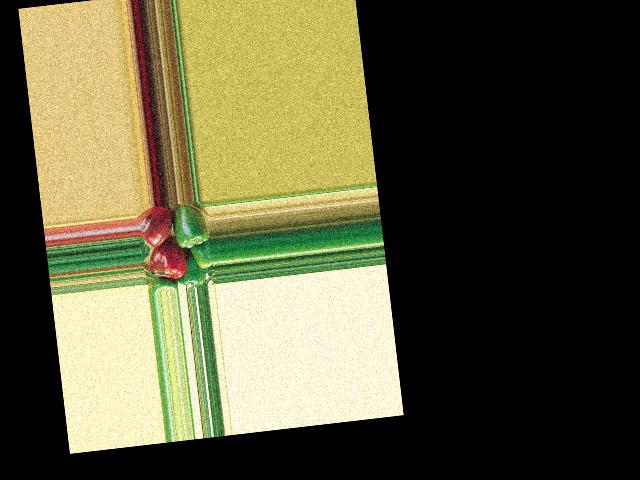bell_pepper: (137, 205, 173, 248)
